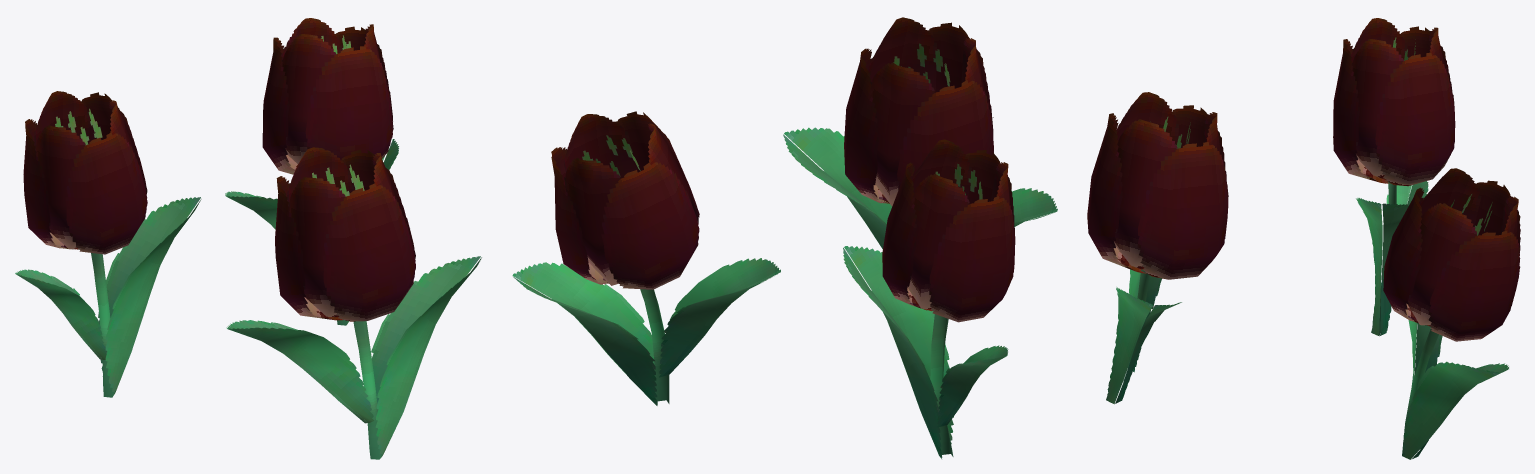
Rendered from black-tulips.glb.
3 views of the same model, side by side, from view 1: azimuth 30°, elevation 25°; view 2: azimuth 150°, elevation 25°; view 3: azimuth 270°, elevation 25° (orthographic). The views are drawn at different scales.
Size of the model in its own units: 9.86 by 6.64 by 8.68.
Materials: 2 (2 with a texture image).
